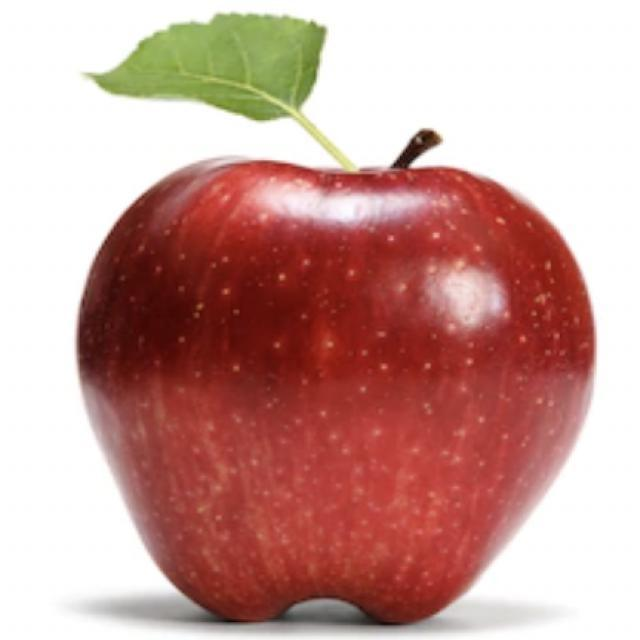Fresh Apple: (95, 150, 602, 640)
